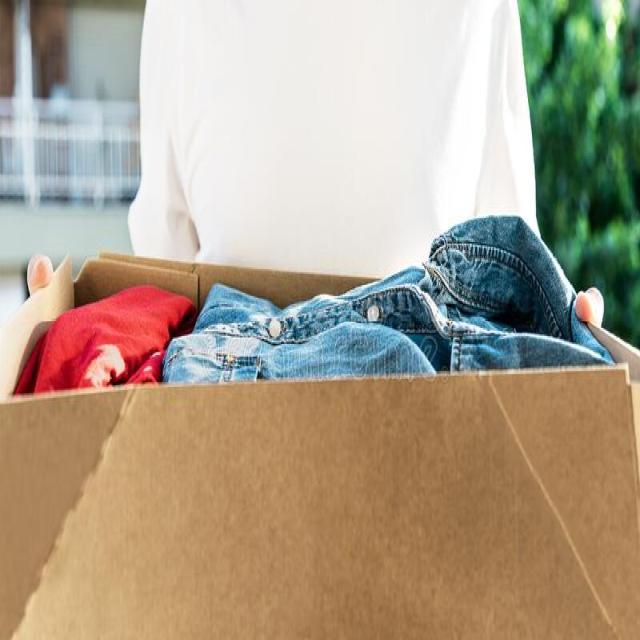clothes: (94, 264, 610, 380)
